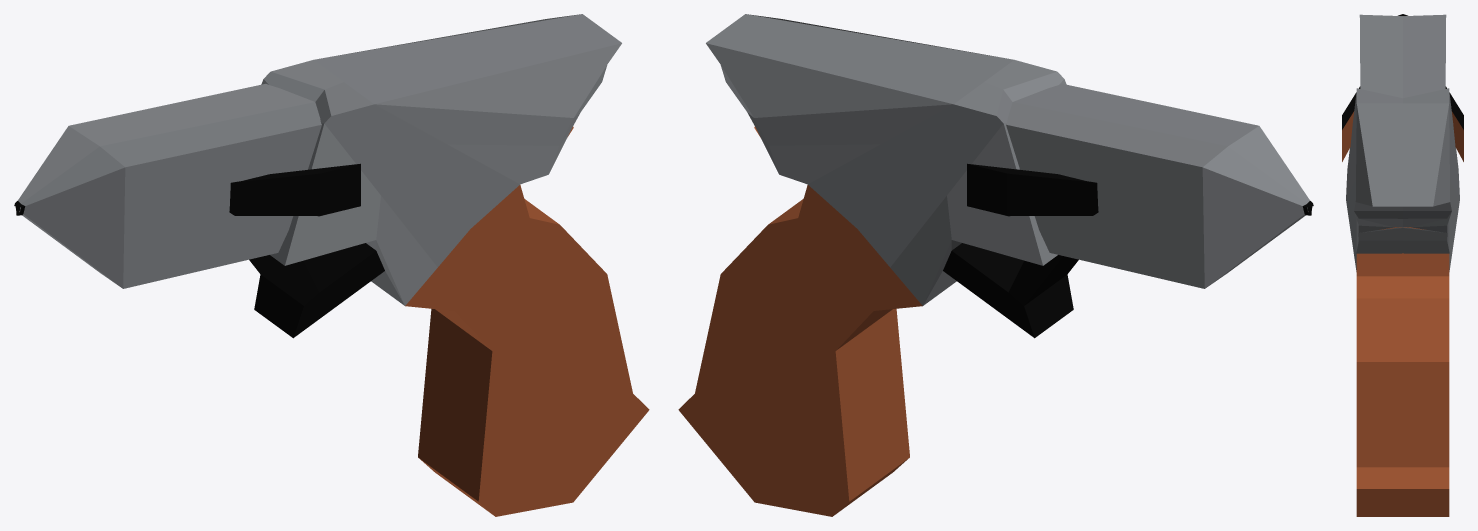
Rendered from pistol.fbx.
3 views of the same model, side by side, from view 1: azimuth 30°, elevation 25°; view 2: azimuth 150°, elevation 25°; view 3: azimuth 270°, elevation 25° (orthographic). The views are drawn at different scales.
Visible parts, largest first — view 1: Cube; view 2: Cube; view 3: Cube.
Boxes of the visible parts, bbox=[...] form: Cube: bbox=[14, 14, 649, 516]; Cube: bbox=[678, 14, 1313, 516]; Cube: bbox=[1342, 14, 1463, 516].
Size of the model in its own units: 164 by 116 by 37.61.
